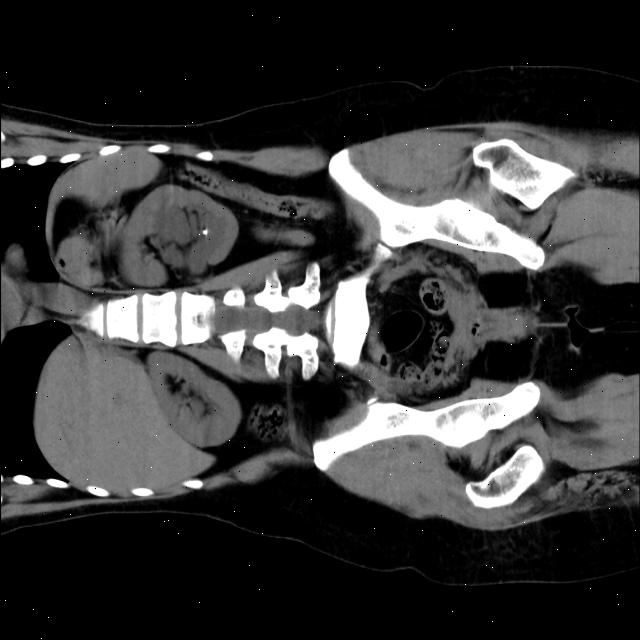kidneystone: (202, 228, 208, 235)
